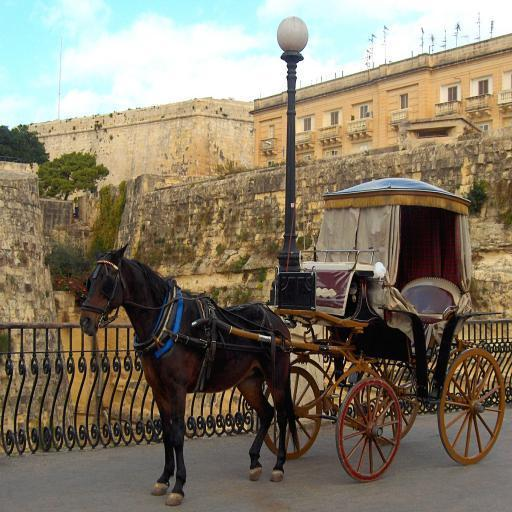horse: (79, 242, 303, 508)
